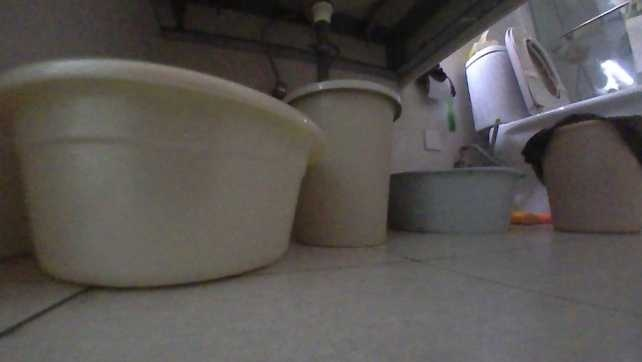toilet: (465, 20, 637, 234)
trash_can: (515, 110, 641, 232)
